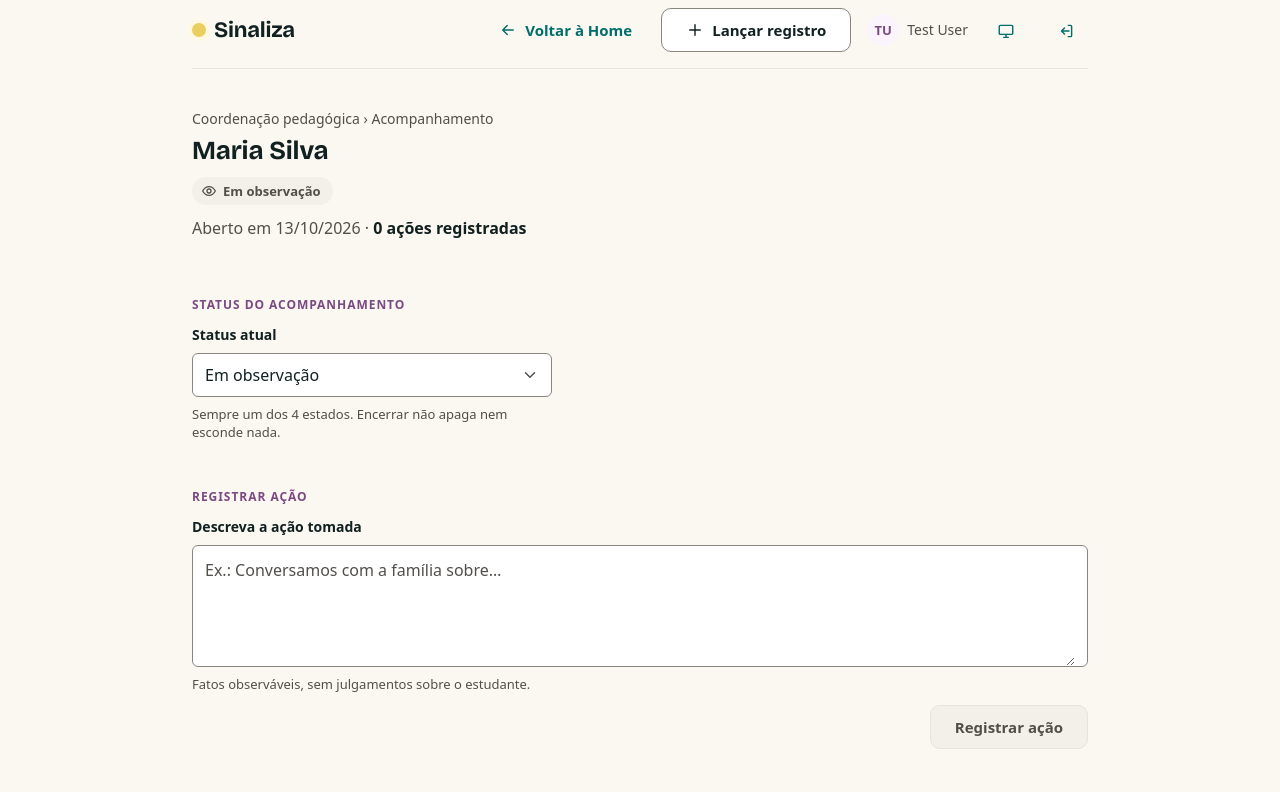
Test: Acompanhamento — tela de acompanhamento (Story 4.1) › shows an inline error when submitting an action fails
Expected: the heading "Maria Silva" is shown, top-left (192, 135), bottom-right (328, 166)
In the text box labelled "Descreva a ação tomada": (640, 606) top-left (205, 546), bottom-right (1075, 666), type "Conversei com a família."
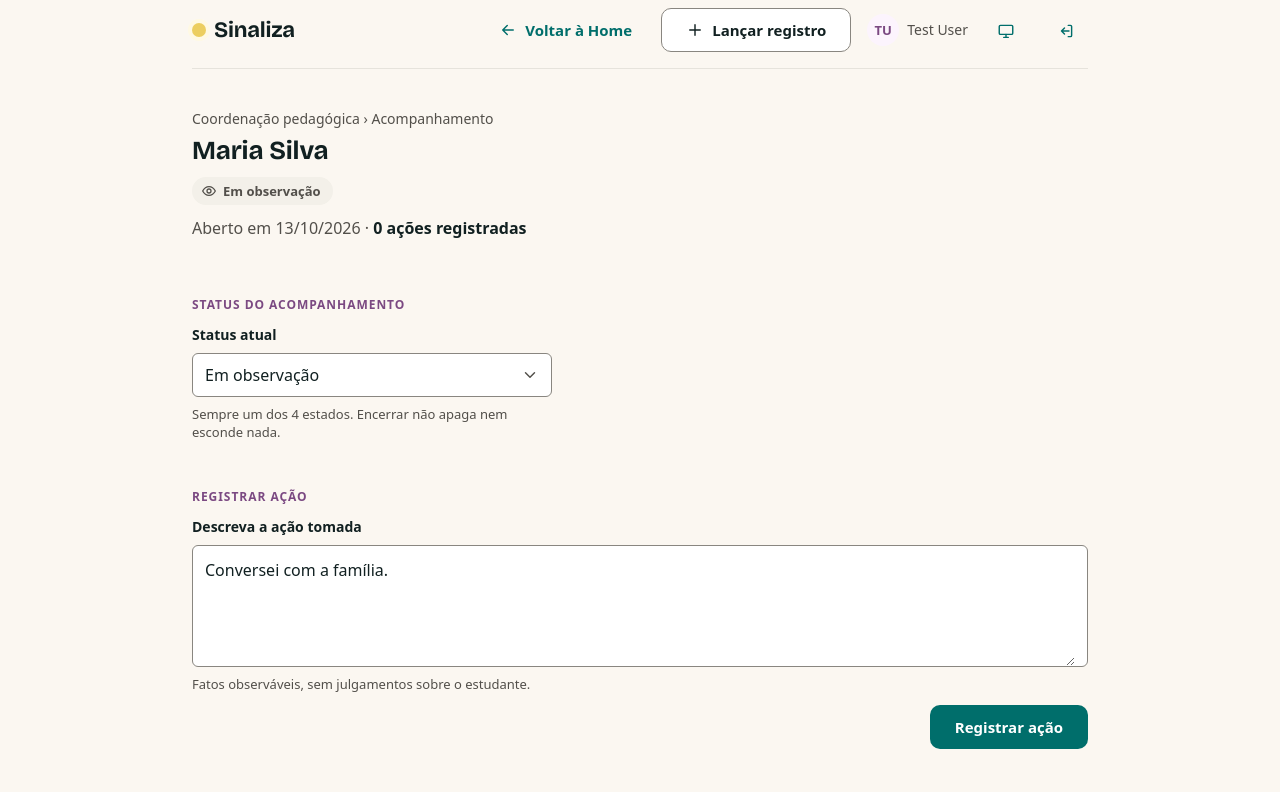
Click the button "Registrar ação": (1009, 727) top-left (930, 705), bottom-right (1088, 749)
(page scrolled)
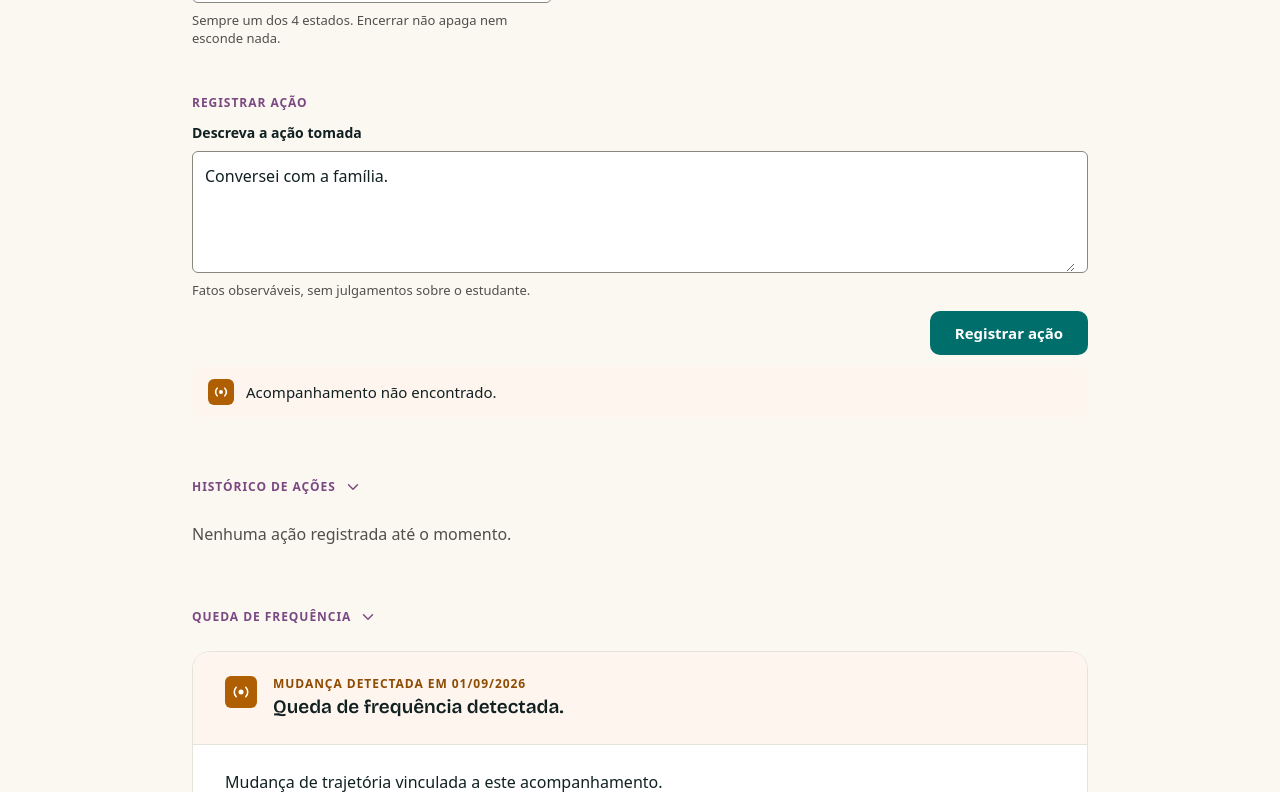
Now the text "Acompanhamento não encontrado." is shown, box top-left (246, 382), bottom-right (497, 402)
